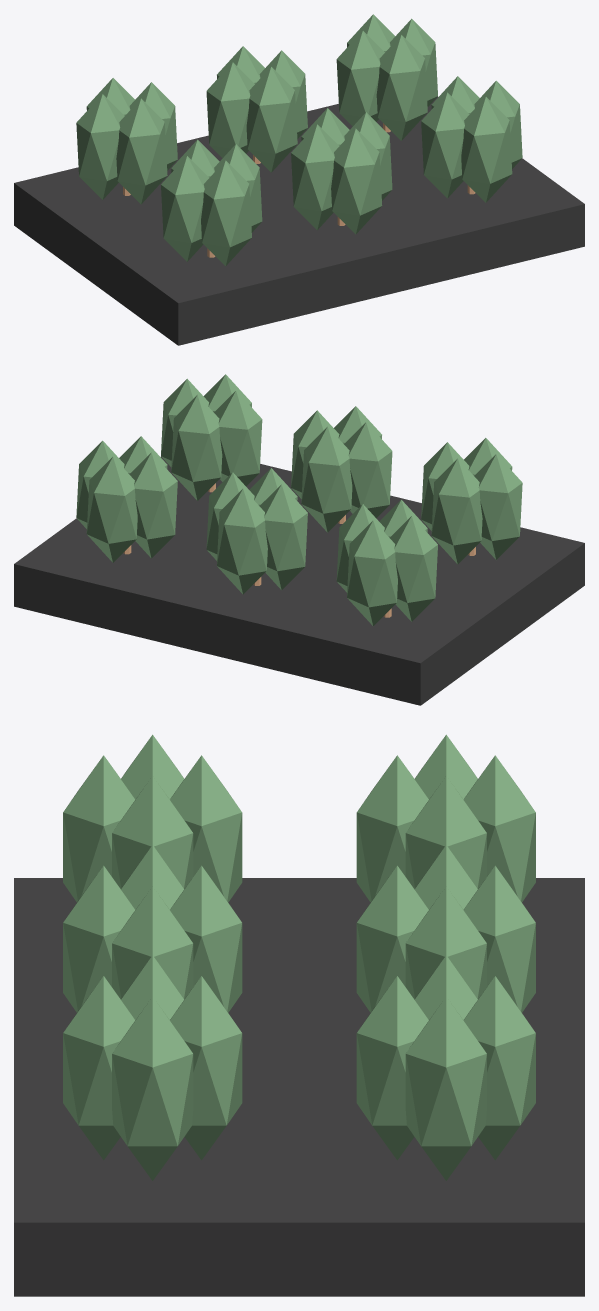
The picture shows the model from 3 angles, top to bottom: view 1: azimuth 30°, elevation 25°; view 2: azimuth 150°, elevation 25°; view 3: azimuth 270°, elevation 25°; orthographic projection. The views are drawn at different scales.
Parts seen in each view (by area): view 1: Tray, Leaf.023, Leaf.015, Leaf.003, Leaf.019, Leaf.007, Leaf.011, Leaf.018, Leaf.006, Leaf.010, Leaf.002, Leaf.014 (+13 smaller); view 2: Tray, Leaf.017, Leaf.009, Leaf.005, Leaf.021, Leaf.001, Leaf.013, Leaf.022, Leaf.002, Leaf.014, Leaf.006, Leaf.010 (+13 smaller); view 3: Tray, Leaf.016, Leaf.020, Leaf.017, Leaf.023, Leaf.019, Leaf.021, Leaf.001, Leaf.007, Leaf.009, Leaf.015, Leaf.003 (+13 smaller).
Boxes of the visible parts, x1,y1,x2,y2 form: Tray: (14,96,584,345); Leaf.023: (376,35,427,140); Leaf.015: (246,66,297,172); Leaf.003: (201,160,251,266); Leaf.019: (461,97,512,202); Leaf.007: (116,98,167,204); Leaf.011: (331,128,382,234); Leaf.018: (421,92,469,198); Leaf.006: (76,94,124,199); Leaf.010: (291,124,339,230); Leaf.002: (161,156,208,261); Leaf.014: (206,62,254,158); Tray: (14,456,584,705); Leaf.017: (171,395,222,500); Leaf.009: (301,426,352,532); Leaf.005: (347,520,397,626); Leaf.021: (86,457,137,562); Leaf.001: (431,458,482,564); Leaf.013: (216,488,267,594); Leaf.022: (129,452,177,558); Leaf.002: (474,454,522,559); Leaf.014: (259,484,307,590); Leaf.006: (390,516,437,621); Leaf.010: (344,422,392,518); Tray: (14,878,584,1296); Leaf.016: (112,996,193,1180); Leaf.020: (405,996,486,1180); Leaf.017: (170,976,242,1160); Leaf.023: (356,976,428,1160); Leaf.019: (63,976,135,1160); Leaf.021: (463,976,535,1160); Leaf.001: (170,755,242,902); Leaf.007: (356,755,428,902); Leaf.009: (170,865,242,1012); Leaf.015: (356,865,428,1012); Leaf.003: (63,755,135,901).
Size of the model in its own units: 50 by 17.5 by 35.
